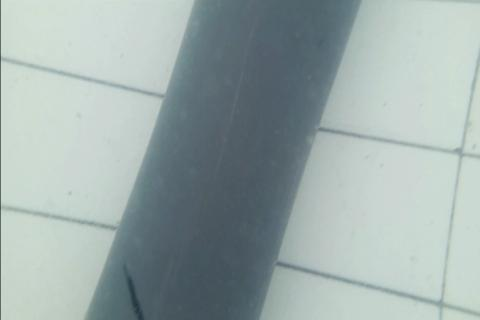keretakan: (121, 259, 146, 320)
